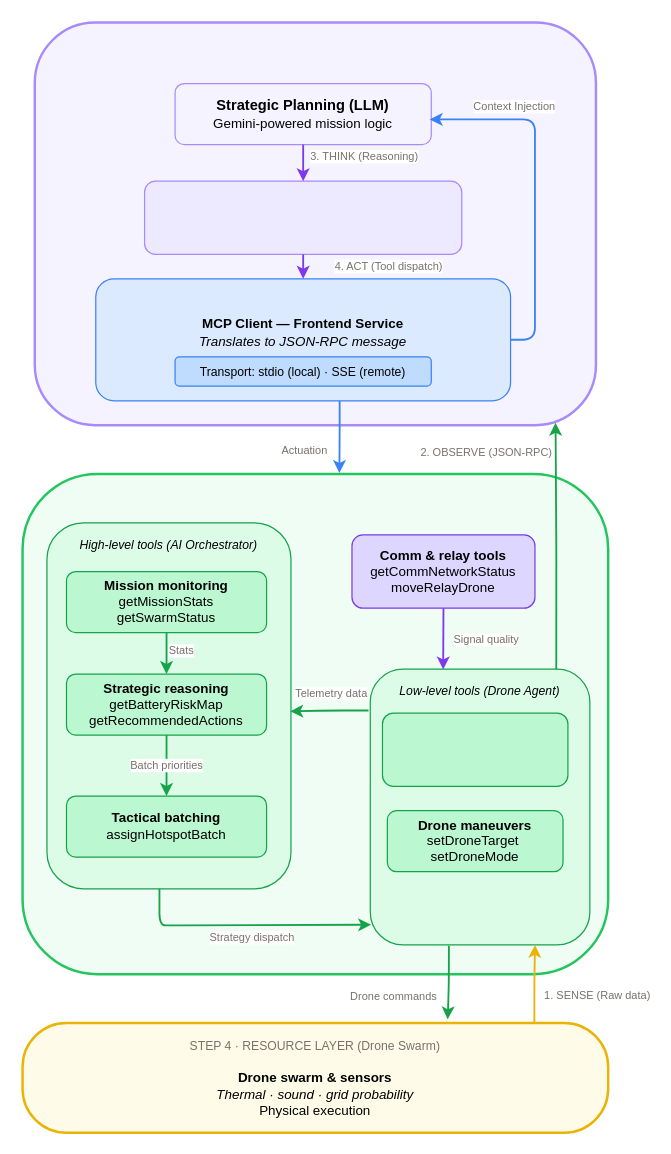
This 671x1154 diagram has some shape labels left out. Each missing label, with the box of its shape:
Drone perspective getDroneStatus getSectorScanResult: (381, 712, 568, 786)
Mission Orchestrator (Relay Drone) assignHotspotBatch getRecommendedActions: (143, 180, 462, 254)
STEP 1 · HOST PROCESS (AI Application): (33, 21, 597, 426)
STEP 2 · CLIENT (embedded inside Host): (95, 278, 511, 401)
STEP 3 · MCP SERVER (Tool Handlers): (21, 472, 609, 975)
